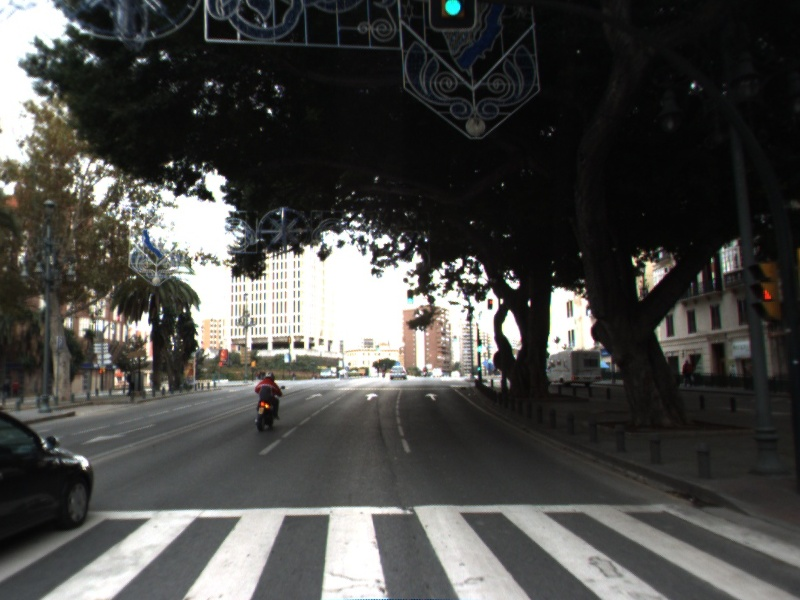STRAIGHT: (303, 391, 325, 402), (423, 391, 441, 403), (362, 391, 381, 402)
